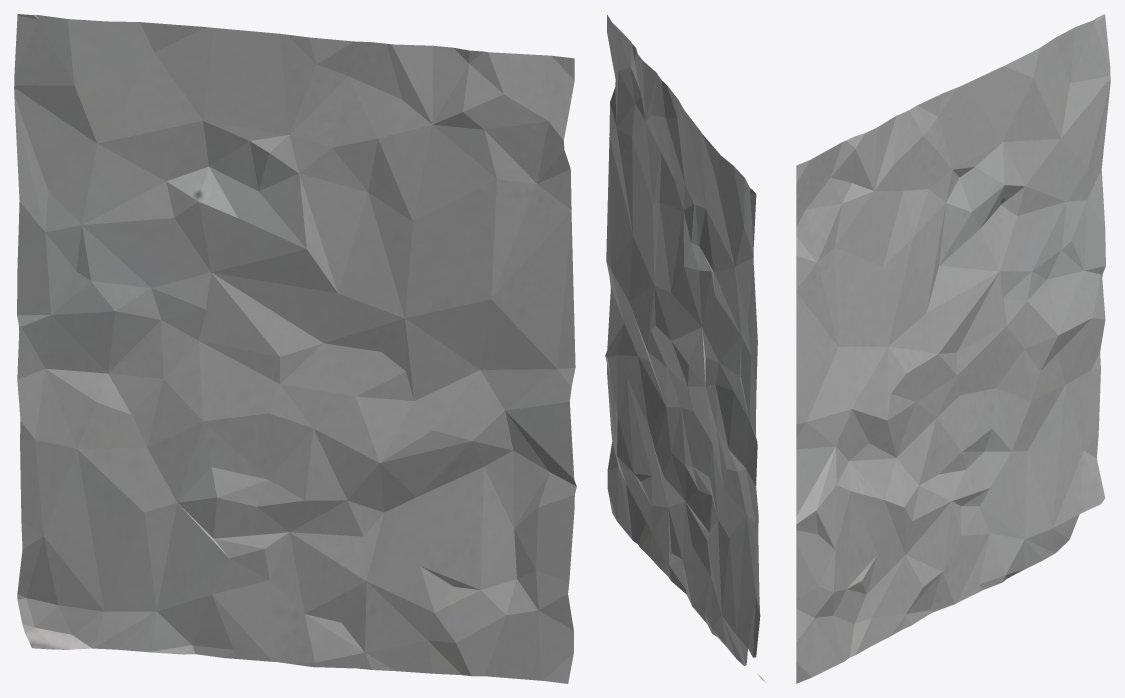
The picture shows the model from 3 angles, left to right: view 1: azimuth 30°, elevation 25°; view 2: azimuth 150°, elevation 25°; view 3: azimuth 270°, elevation 25°; orthographic projection. The views are drawn at different scales.
Bounding box in the file's own units: 0.5258 × 0.8374 × 0.4583.
2 materials, 2 textured.
